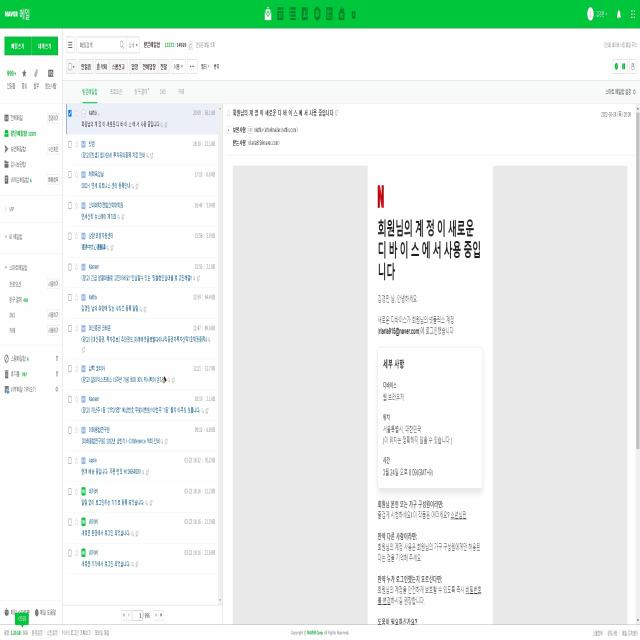menu-panel: (262, 2, 358, 24)
search: (76, 34, 140, 53)
tab-bar: (65, 59, 221, 76)
